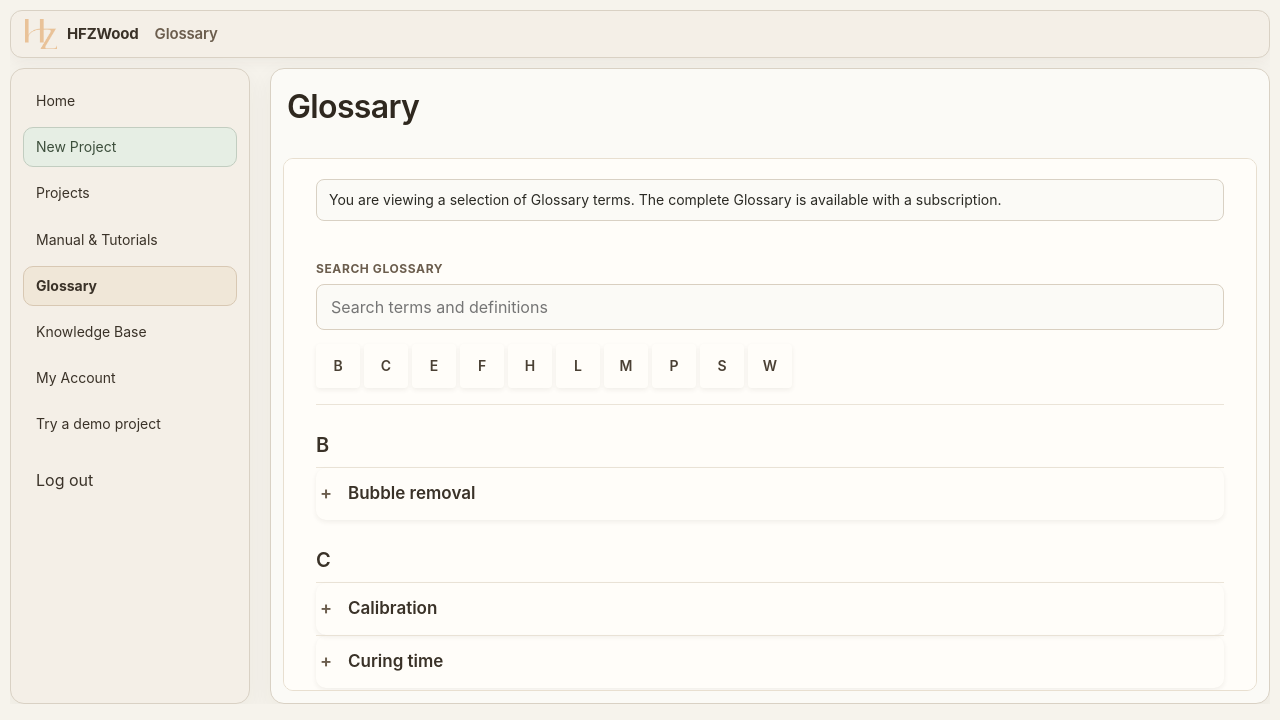
Glossary public UI localization › renders English Glossary search and empty-state strings
Type "zzzz-no-match" into the search field labelled "Search glossary" at coordinates (770, 307), box [316,284,1224,330]
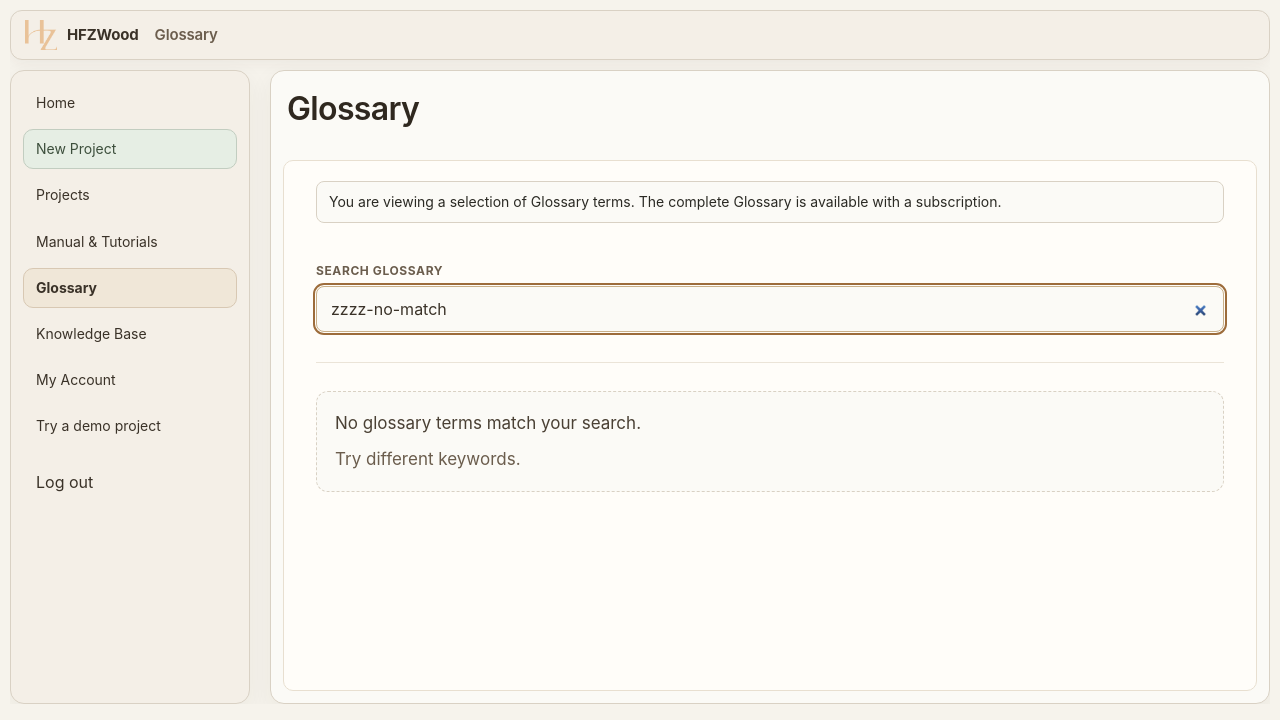
Now the text "No glossary terms match your search." is shown, box [335,414,641,434]
Now the text "Try different keywords." is shown, box [335,449,521,469]
